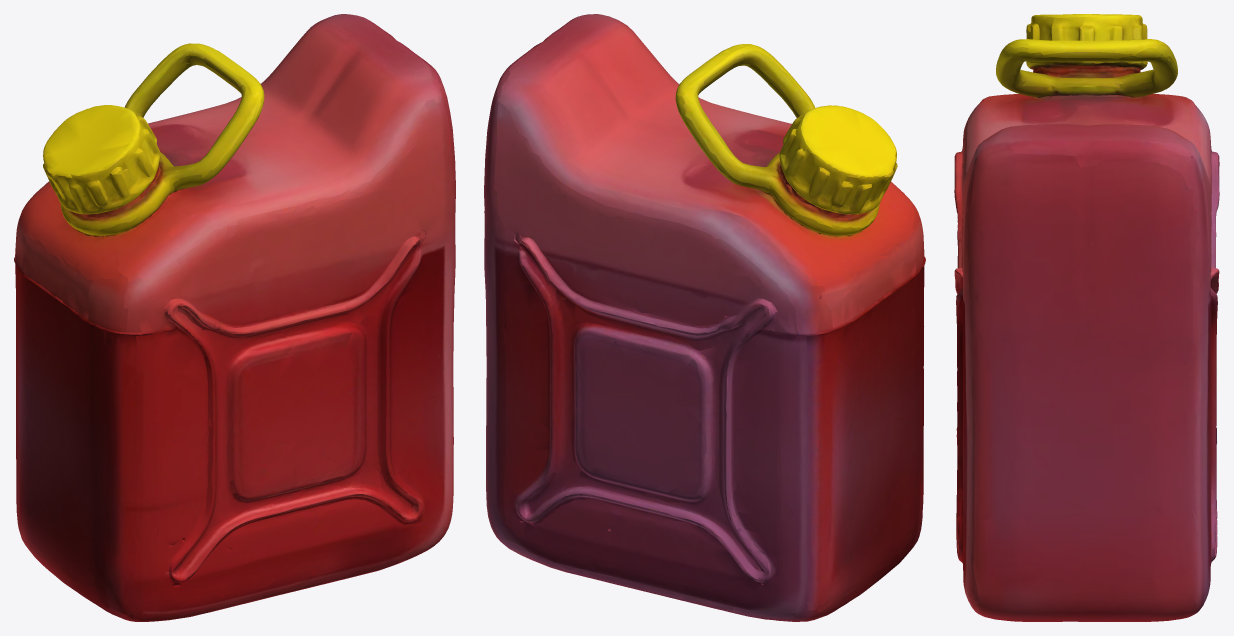
Rendered from palm_oil_keg.glb.
3 renders of one model, left to right at view 1: azimuth 30°, elevation 25°; view 2: azimuth 150°, elevation 25°; view 3: azimuth 270°, elevation 25°, orthographic. The views are drawn at different scales.
Visible parts, largest first — view 1: geometry_0; view 2: geometry_0; view 3: geometry_0.
Boxes of the visible parts, box(x1,y1,x2,y2) form: geometry_0: box(14, 14, 455, 621); geometry_0: box(484, 14, 925, 621); geometry_0: box(954, 14, 1219, 621).
Bounding box in the file's own units: 0.1749 × 0.23 × 0.1083.
1 material, 1 textured.
